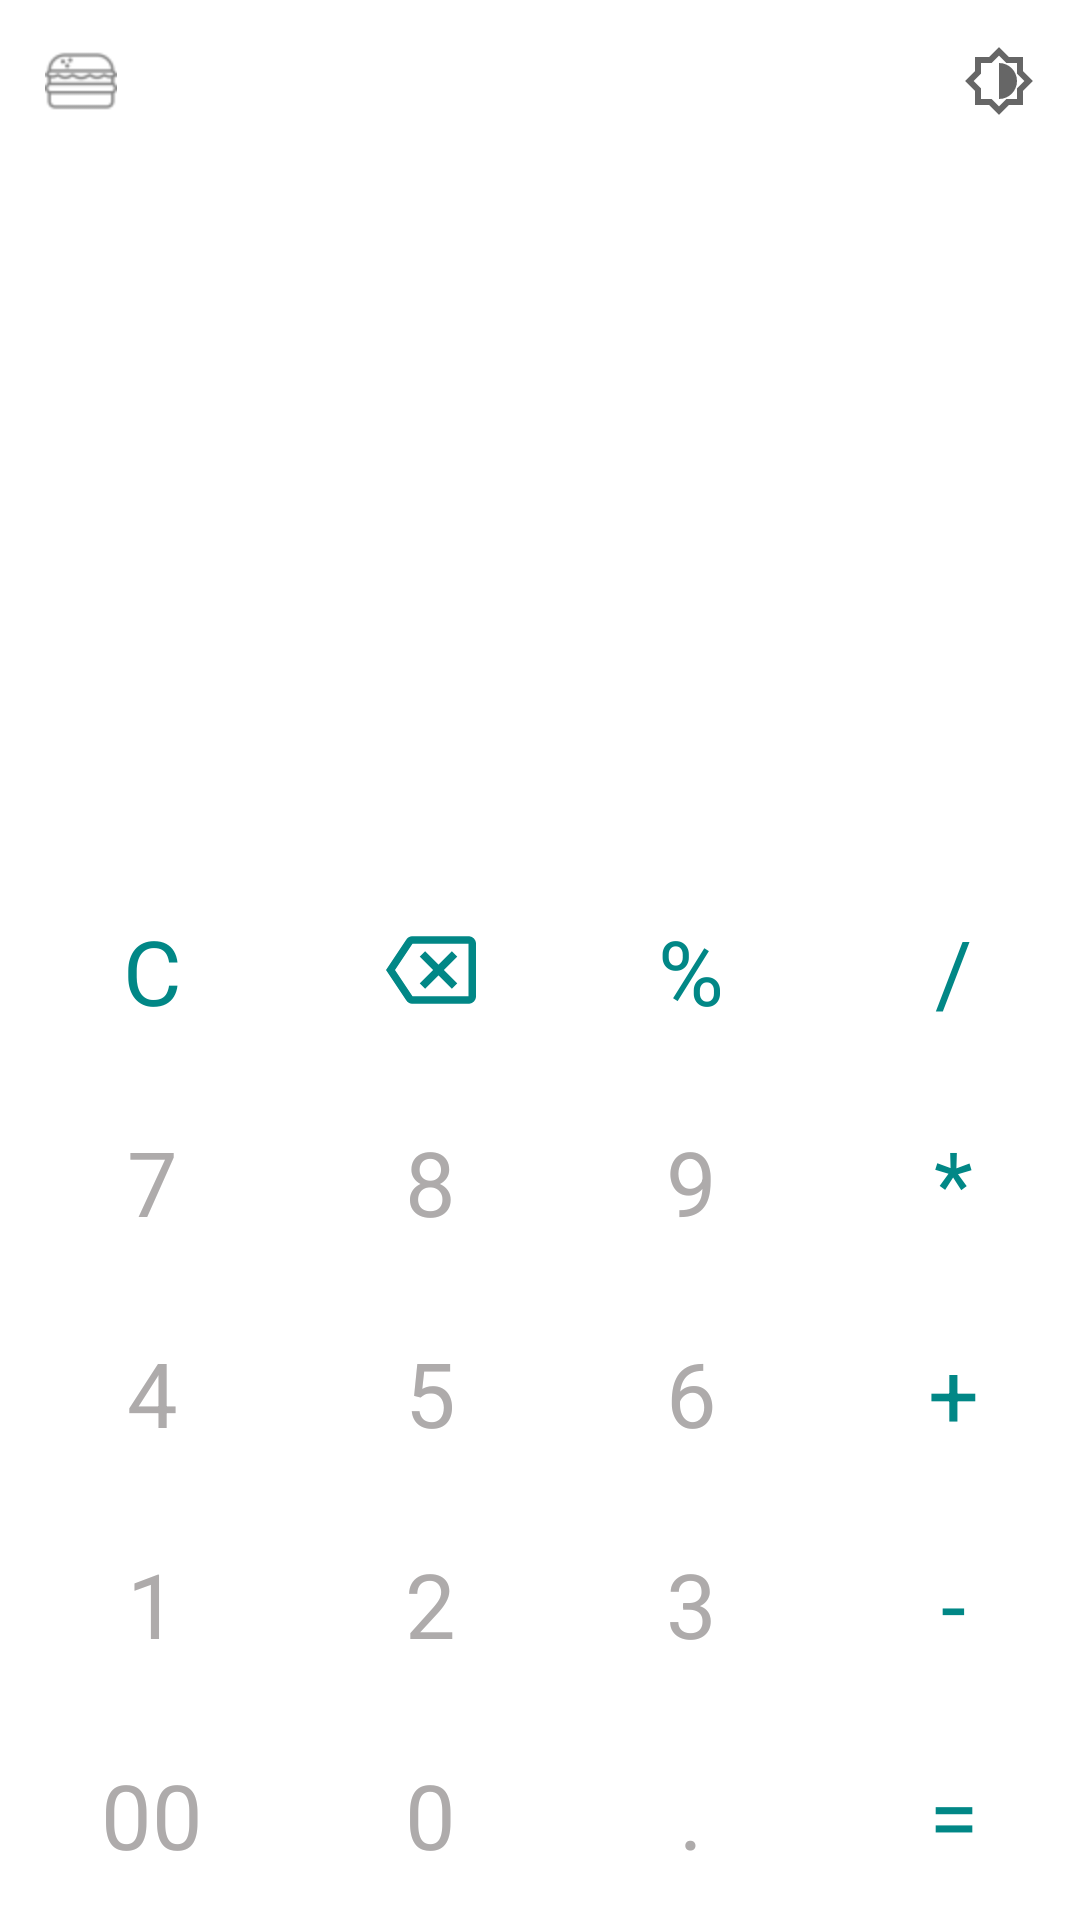

Named icons in this screenshot (1080x1920) and their bounding boxes, (left=x1, top=y1, right=x2, bottom=y2):
backspace: (left=386, top=936, right=476, bottom=1004)
daynight: (left=965, top=47, right=1033, bottom=115)
